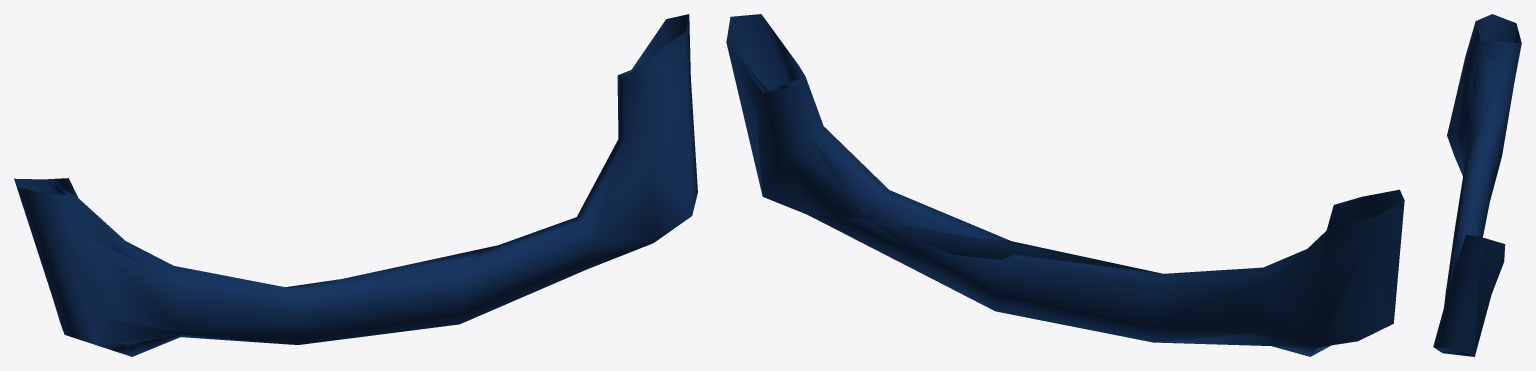
The model's file is R arcus plantaris profundus distalis.fbx.
3 renders of one model, left to right at view 1: azimuth 30°, elevation 25°; view 2: azimuth 150°, elevation 25°; view 3: azimuth 270°, elevation 25°, orthographic. The views are drawn at different scales.
Parts seen in each view (by area): view 1: R arcus plantaris profundus distalis, R arcus plantaris profundus distalis low; view 2: R arcus plantaris profundus distalis, R arcus plantaris profundus distalis low; view 3: R arcus plantaris profundus distalis, R arcus plantaris profundus distalis low.
Boxes of the visible parts, <box> form: R arcus plantaris profundus distalis: <box>14,14,697,356</box>; R arcus plantaris profundus distalis low: <box>14,20,685,356</box>; R arcus plantaris profundus distalis: <box>726,17,1404,356</box>; R arcus plantaris profundus distalis low: <box>726,14,1404,356</box>; R arcus plantaris profundus distalis: <box>1433,14,1521,356</box>; R arcus plantaris profundus distalis low: <box>1443,23,1521,356</box>.
Size of the model in its own units: 2.33 by 0.7855 by 0.372.
